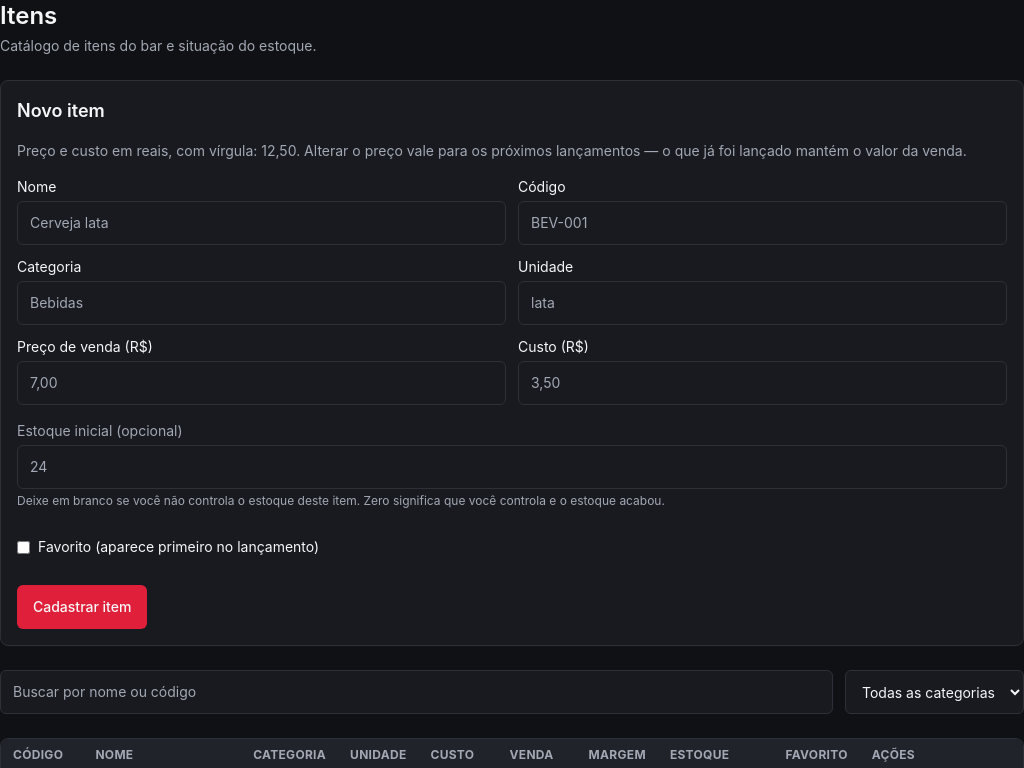
Test: CatalogView item registration › says which money field it could not read when the text is not an amount
The width and height of the screenshot is (1024, 768).
Type "Item torto" into the field labelled "Nome" at (262,223), box [17, 201, 506, 245]
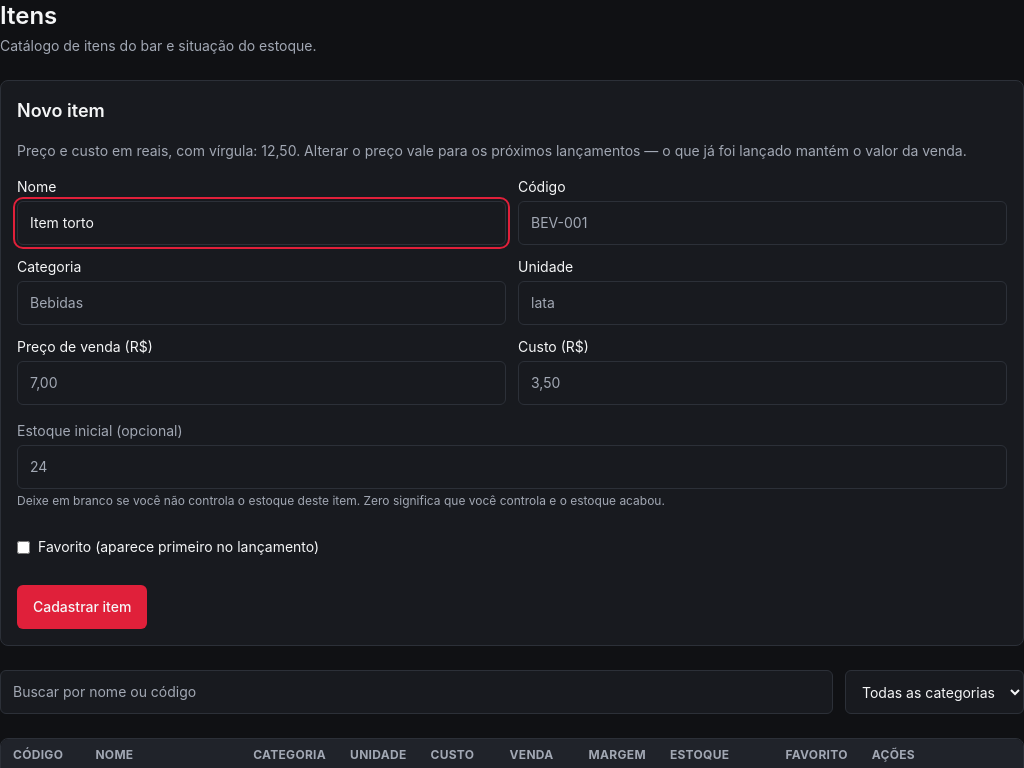
Type "abc" into the field labelled "Preço de venda (R$)" at (262,383), box [17, 361, 506, 405]
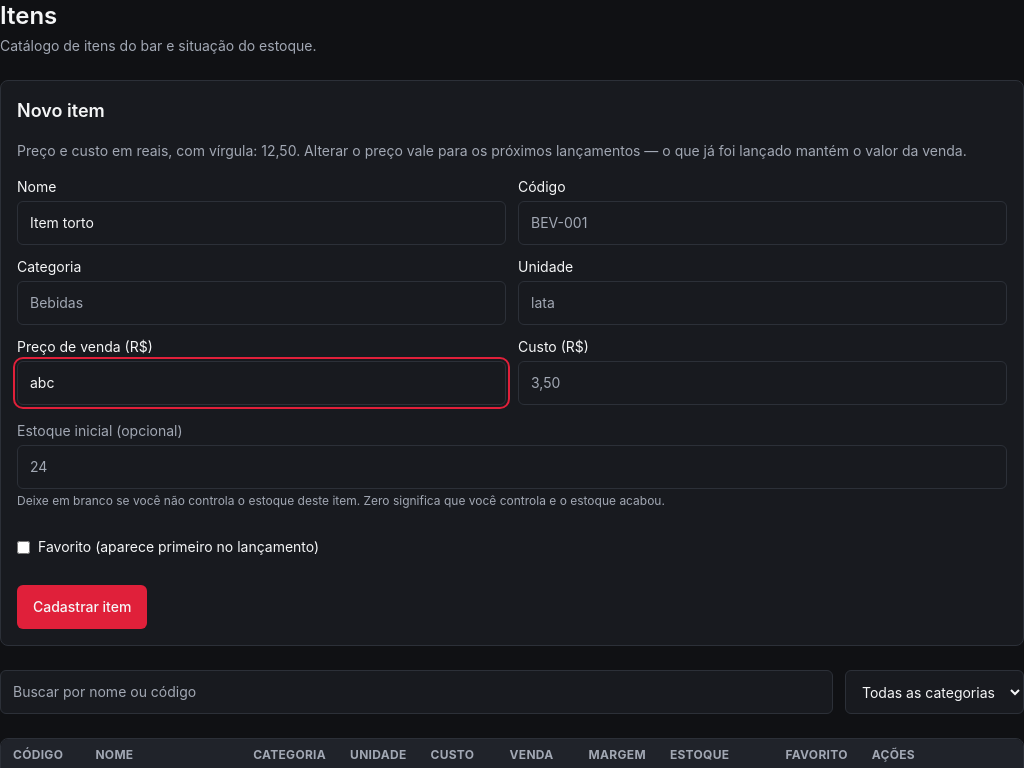
Type "2" into the field labelled "Custo (R$)" at (762,383), box [518, 361, 1007, 405]
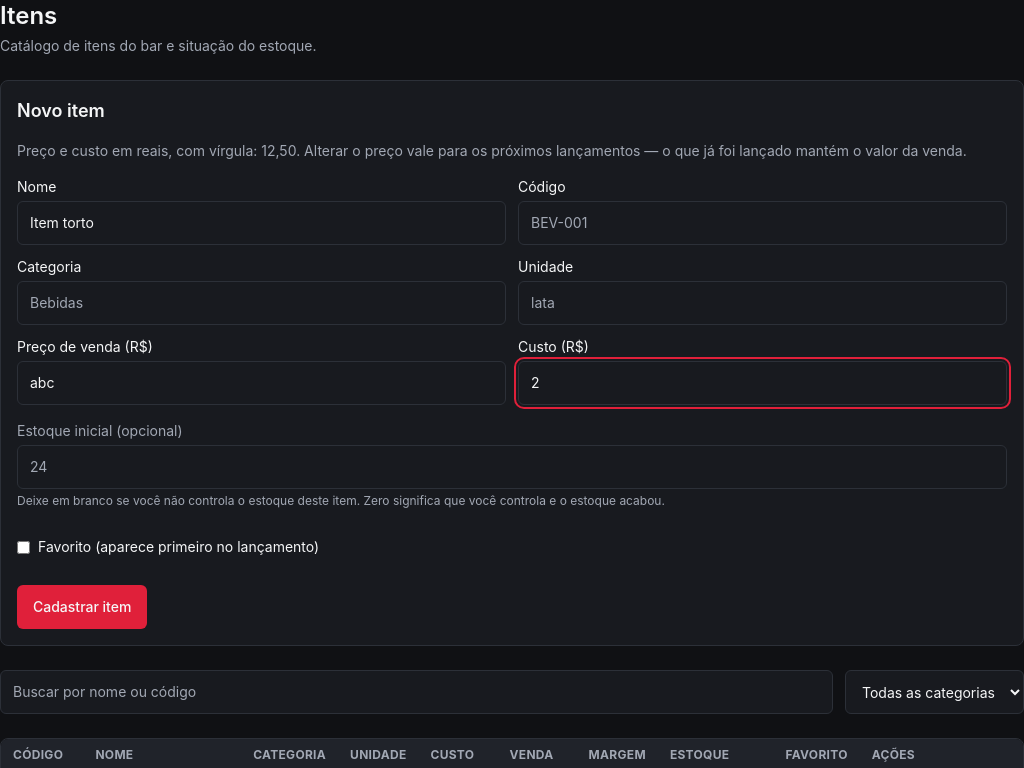
Click the button "Cadastrar item" at (82,607), box [17, 585, 147, 629]
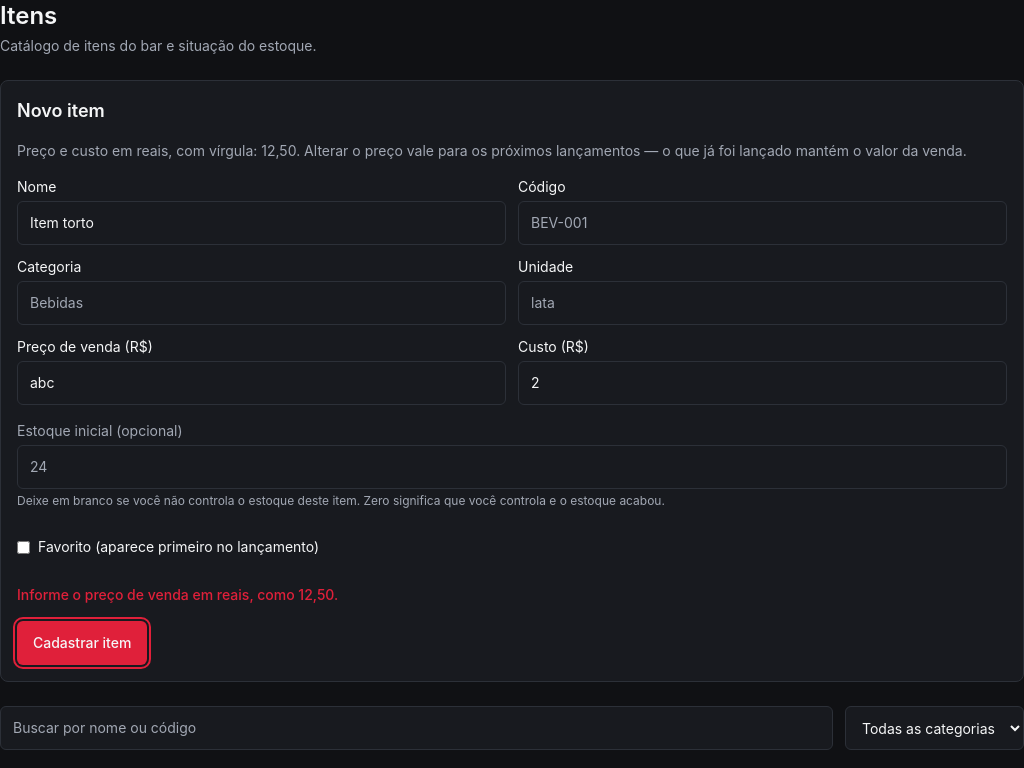
Result: the message shows "preço de venda" at [17, 586, 338, 603]
